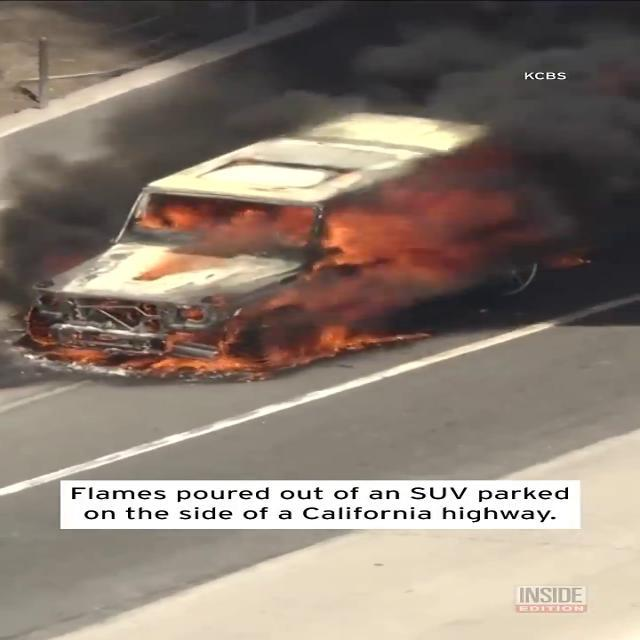Smoke: (347, 0, 640, 266)
